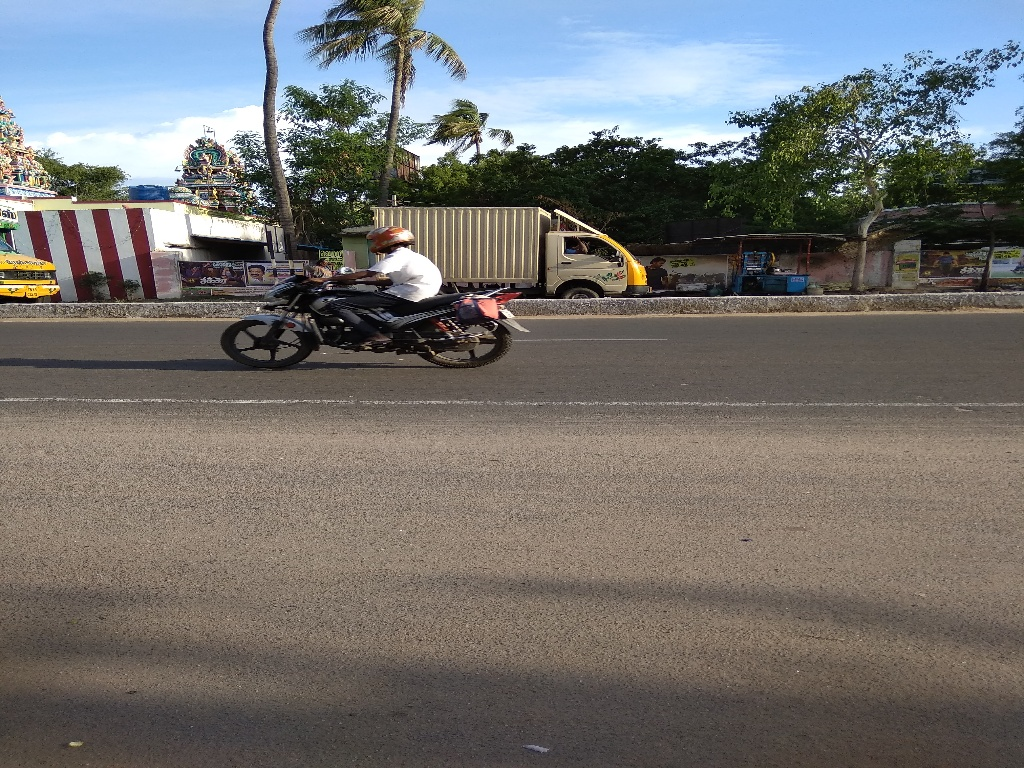biker: (211, 195, 549, 383)
helmet: (355, 215, 426, 267)
